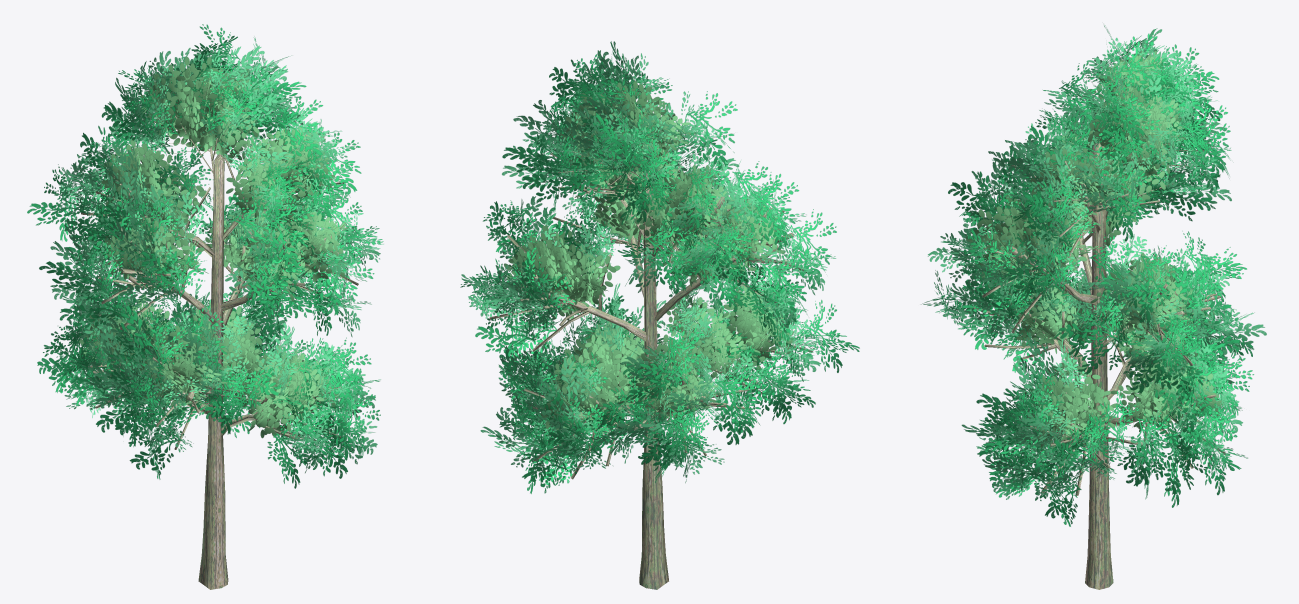
The model's file is jabami_anime_tree_v1.glb.
3 views of the same model, side by side, from view 1: azimuth 30°, elevation 25°; view 2: azimuth 150°, elevation 25°; view 3: azimuth 270°, elevation 25° (orthographic). The views are drawn at different scales.
Visible parts, largest first — view 1: ..\..\users\hp-touch\documents\treeitsave\texture\tron_tree_ (×5); view 2: ..\..\users\hp-touch\documents\treeitsave\texture\tron_tree_ (×5); view 3: ..\..\users\hp-touch\documents\treeitsave\texture\tron_tree_ (×5).
Part boxes in pixels (x1=…): ..\..\users\hp-touch\documents\treeitsave\texture\tron_tree_ (×5): x1=27, y1=24, x2=383, y2=589; ..\..\users\hp-touch\documents\treeitsave\texture\tron_tree_ (×5): x1=460, y1=41, x2=859, y2=589; ..\..\users\hp-touch\documents\treeitsave\texture\tron_tree_ (×5): x1=921, y1=25, x2=1266, y2=589.
Bounding box in the file's own units: 5.46 × 8.02 × 4.88.
5 materials, 5 textured.
